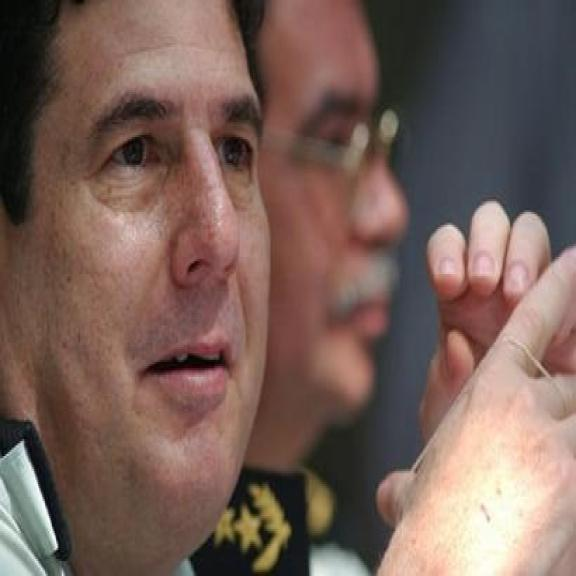face: (25, 0, 276, 555), (258, 0, 407, 457)
